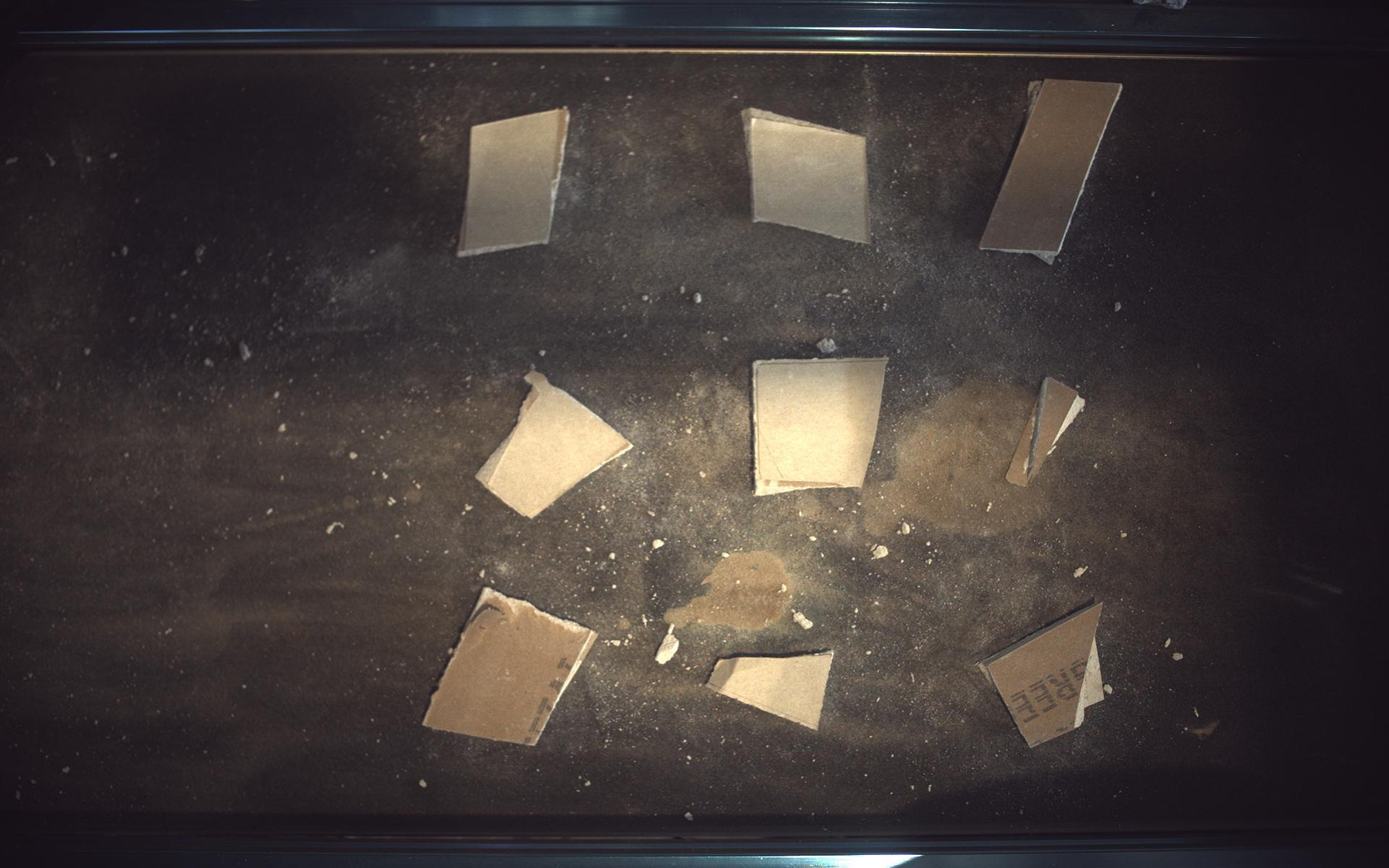gypsum_board: (422, 587, 598, 746), (982, 77, 1124, 263), (476, 370, 634, 519), (980, 603, 1107, 749), (755, 358, 889, 496), (743, 106, 872, 243), (457, 106, 568, 255), (709, 652, 836, 731), (1008, 377, 1087, 487)
